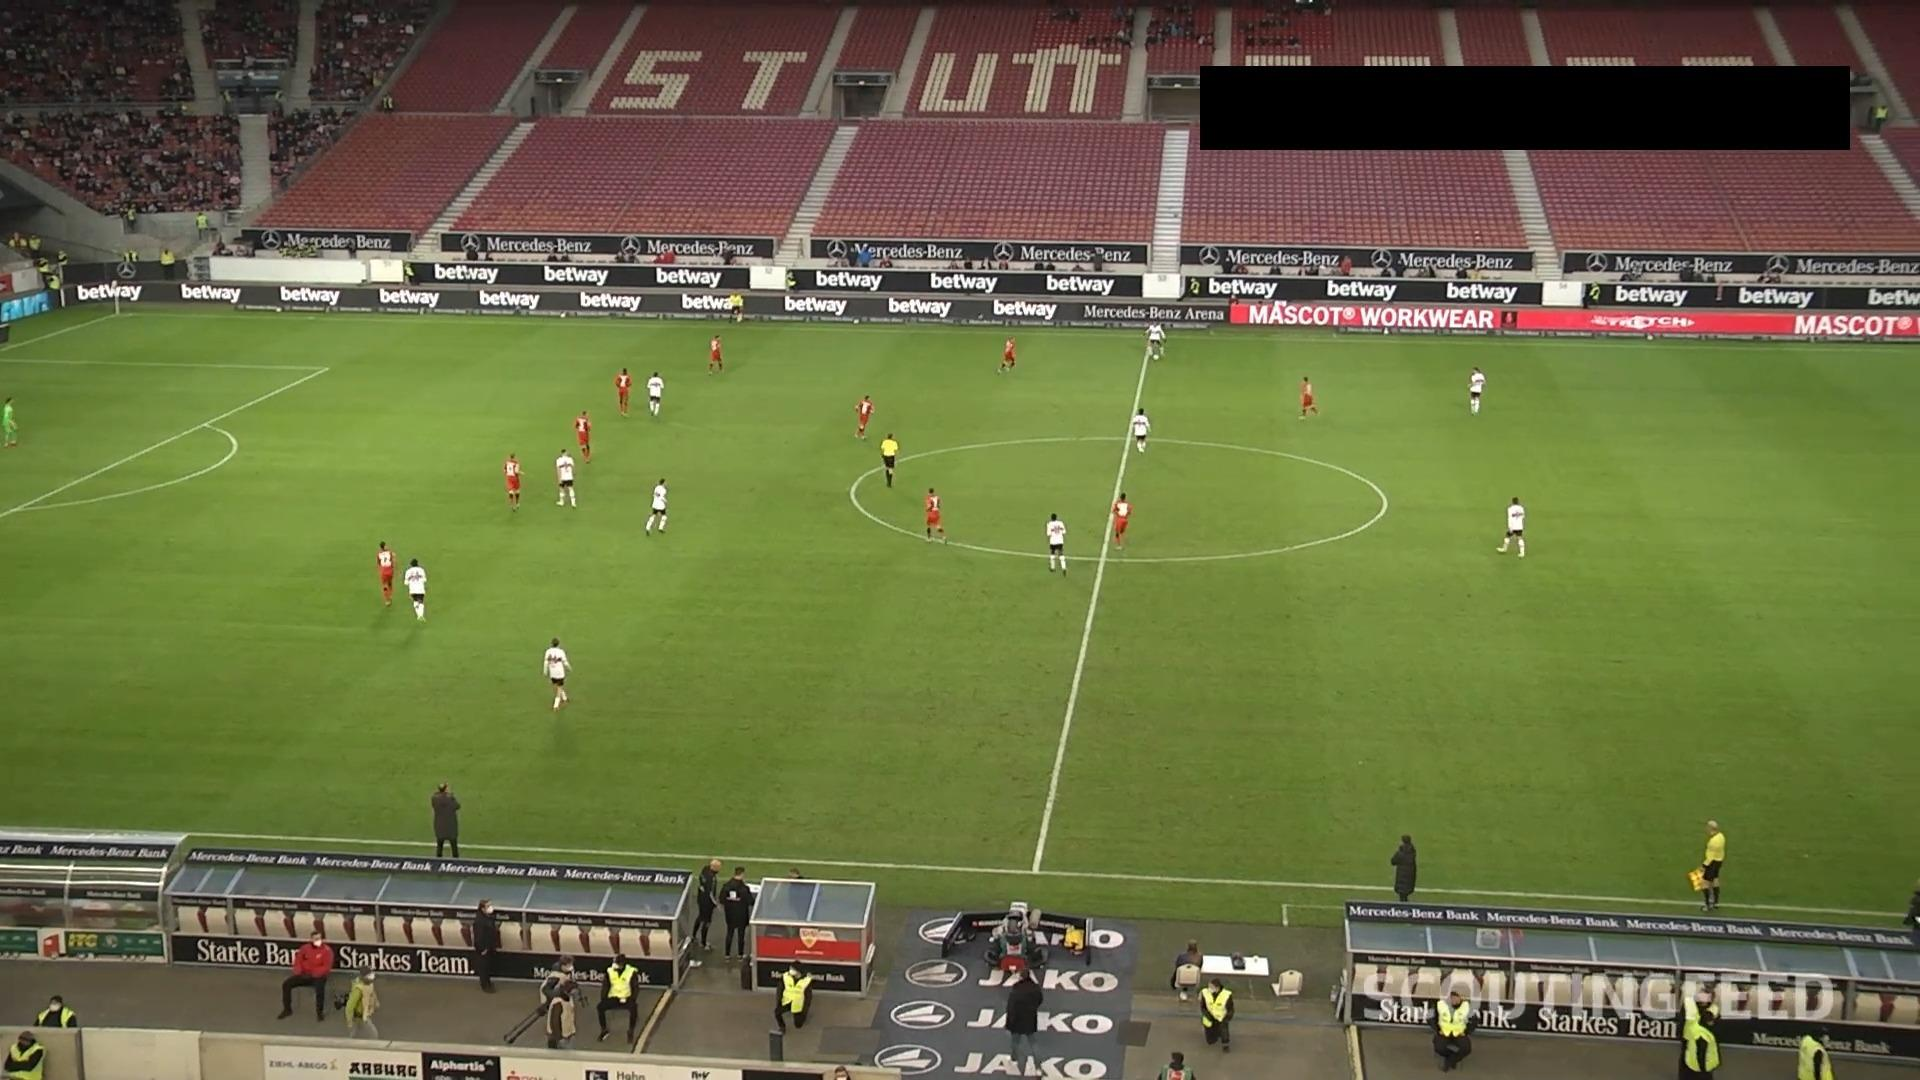ball: (1151, 352, 1160, 361)
